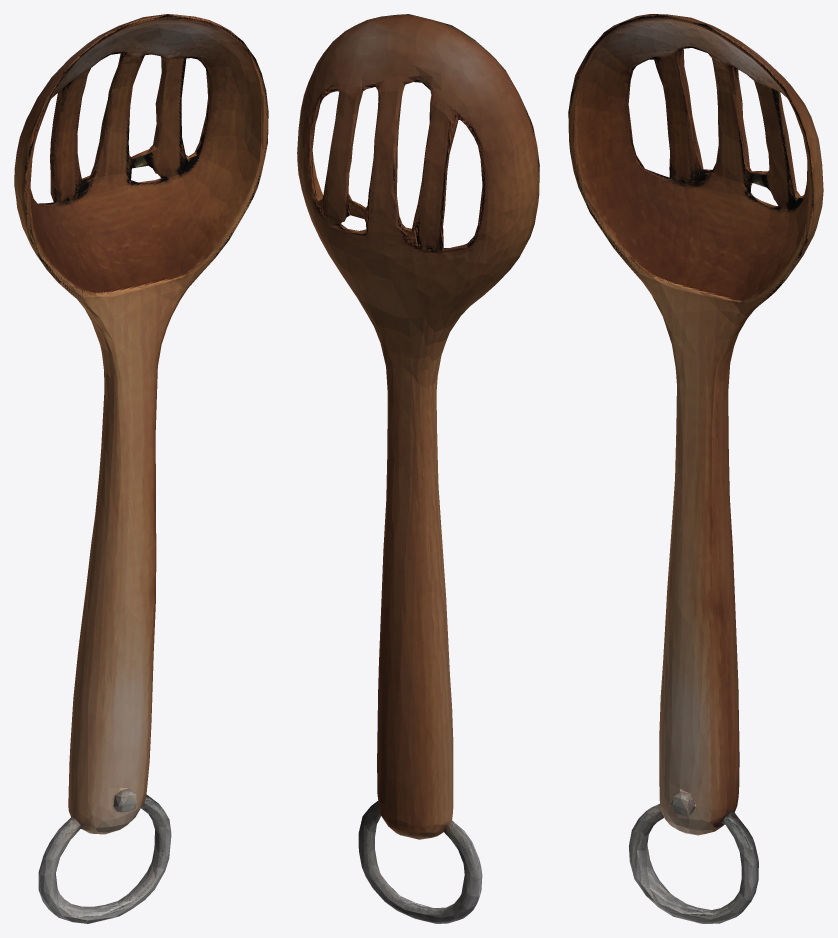
The model's file is wooden_spoon_visual_0.obj.
3 renders of one model, left to right at view 1: azimuth 30°, elevation 25°; view 2: azimuth 150°, elevation 25°; view 3: azimuth 330°, elevation 25°, orthographic. The views are drawn at different scales.
Bounding box in the file's own units: 0.2779 × 1 × 0.0875.
1 material, 1 textured.
